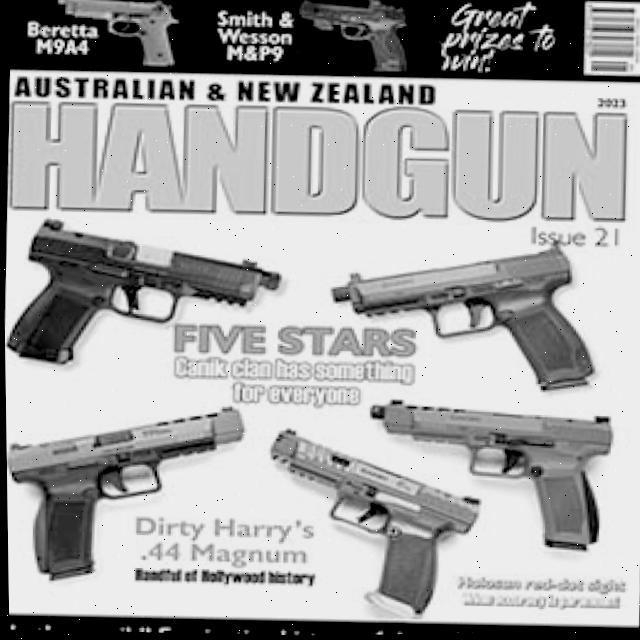pistol: (5, 396, 248, 591), (323, 236, 601, 401), (2, 211, 284, 373), (258, 425, 485, 622), (361, 395, 617, 555), (291, 0, 410, 76), (55, 0, 180, 70)
